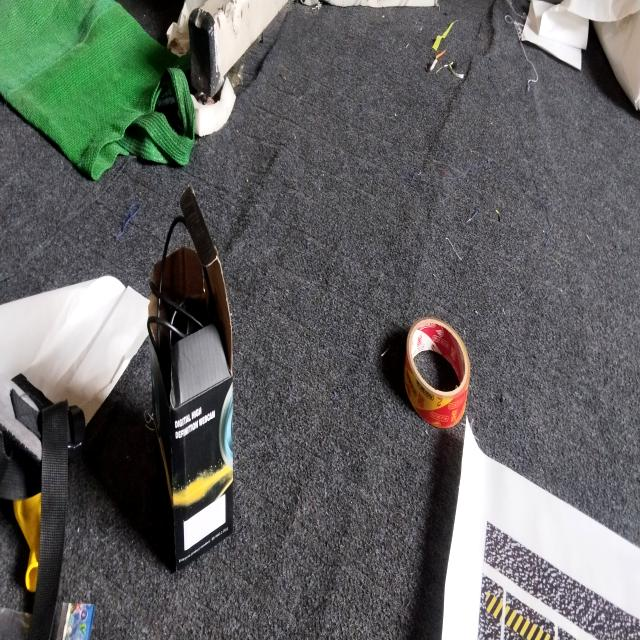others: (147, 187, 233, 568), (0, 276, 149, 465), (521, 0, 640, 110), (188, 0, 288, 102), (28, 401, 69, 640), (404, 317, 470, 428), (13, 493, 41, 592), (191, 78, 236, 136), (62, 604, 94, 640), (432, 21, 455, 51), (168, 22, 185, 53), (443, 61, 465, 79), (430, 59, 438, 71)
